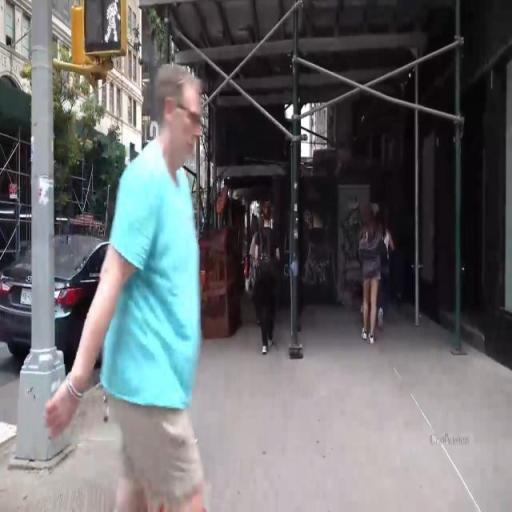person: (99, 72, 227, 512), (257, 206, 301, 385), (359, 204, 382, 376), (374, 204, 396, 325)
